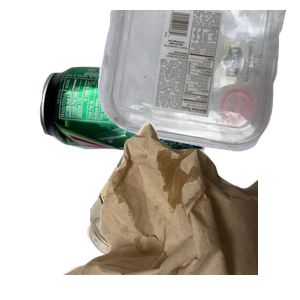glass: (85, 141, 275, 300)
metal: (37, 64, 245, 214)
plastic: (95, 10, 300, 154)
trash: (60, 120, 300, 300)
